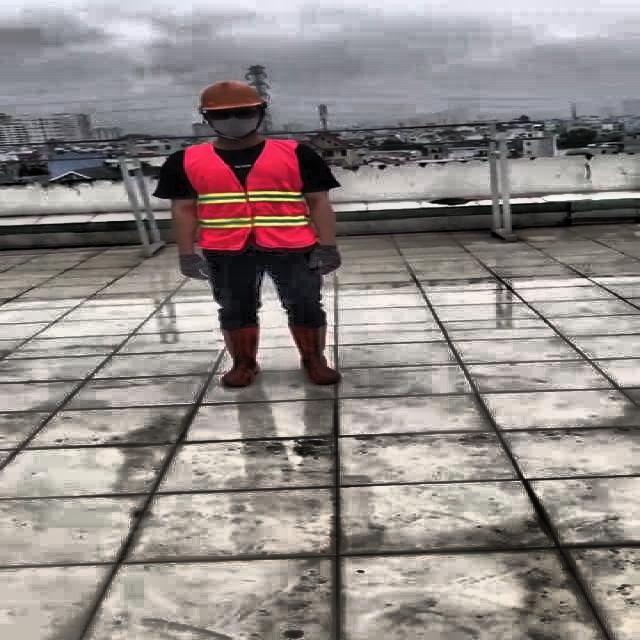safety_helmet: (197, 80, 266, 112)
safety_jacket: (183, 140, 313, 251)
